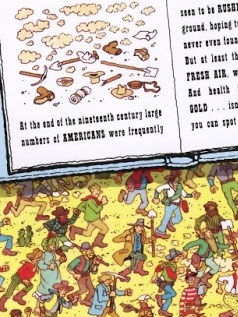waldo: (185, 267, 198, 286)
